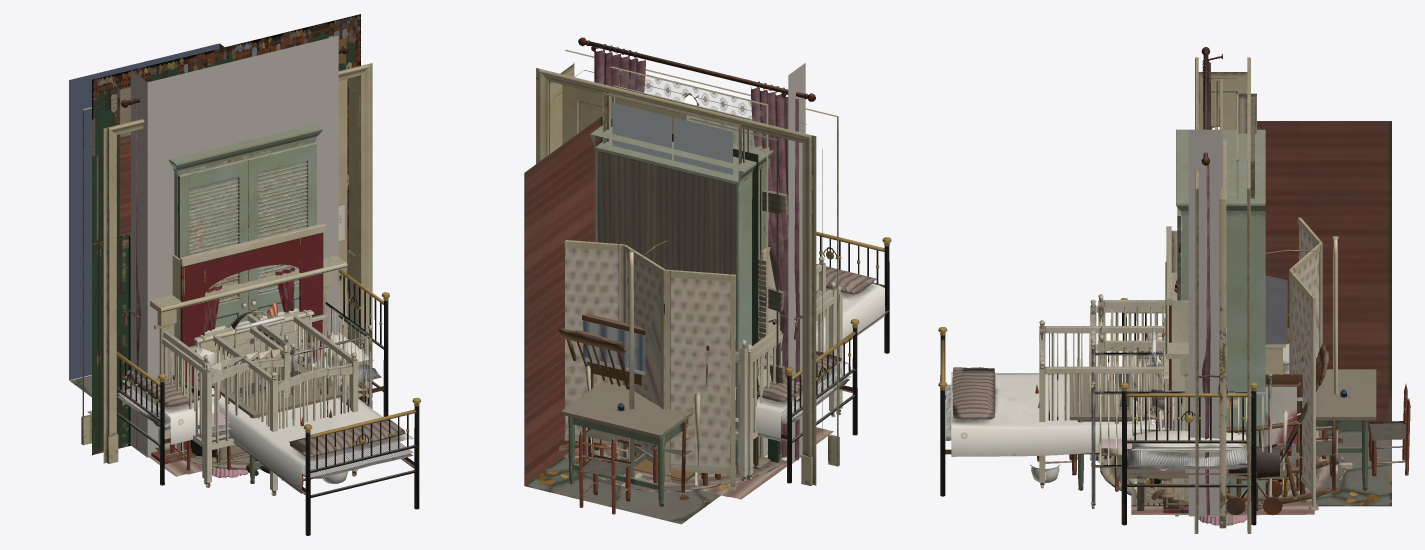
File: wood.glb
3 views of the same model, side by side, from view 1: azimuth 30°, elevation 25°; view 2: azimuth 150°, elevation 25°; view 3: azimuth 270°, elevation 25° (orthographic). The views are drawn at different scales.
Parts seen in each view (by area): view 1: Mod_fireplace_wood, Exit_wood_p0, Door_frame_wood, Solid_iron_bed, Band_puppet_theatre, Exit_wood_p1, Ward_leafR_wood, Ward_leafL_wood, Isl_bed_screen, Isl_twin_cribs_p0, Solid_crib_v0, Isl_crib_rocker (+9 smaller); view 2: Isl_bed_screen, Exit_wood_p0, Ward_body_wood, Door_frame_wood, Win_sash_curtain, Solid_nursery_table, Win_sash_glass, Solid_iron_bed, Mod_fireplace_wood, Isl_washstand, Isl_crib_rocker, Isl_twin_cribs_p0 (+9 smaller); view 3: Exit_wood_p0, Isl_bed_screen, Solid_iron_bed, Ward_body_wood, Mod_fireplace_wood, Solid_nursery_table, Door_frame_wood, Isl_dollhouse, Isl_twin_cribs_p0, Solid_crib_v0, Isl_crib_rocker, Door_leaf_wood (+9 smaller).
Boxes of the visible parts, x1=… form: Mod_fireplace_wood: x1=131, y1=36, x2=347, y2=464; Exit_wood_p0: x1=69, y1=14, x2=360, y2=454; Door_frame_wood: x1=81, y1=63, x2=372, y2=463; Solid_iron_bed: x1=212, y1=363, x2=421, y2=535; Band_puppet_theatre: x1=172, y1=223, x2=326, y2=451; Exit_wood_p1: x1=69, y1=43, x2=219, y2=380; Ward_leafR_wood: x1=247, y1=142, x2=316, y2=318; Ward_leafL_wood: x1=178, y1=158, x2=248, y2=327; Isl_bed_screen: x1=117, y1=270, x2=389, y2=485; Isl_twin_cribs_p0: x1=161, y1=302, x2=372, y2=487; Solid_crib_v0: x1=210, y1=307, x2=358, y2=495; Isl_crib_rocker: x1=163, y1=314, x2=290, y2=484; Isl_bed_screen: x1=564, y1=240, x2=859, y2=491; Exit_wood_p0: x1=524, y1=93, x2=779, y2=524; Ward_body_wood: x1=590, y1=115, x2=773, y2=474; Door_frame_wood: x1=536, y1=49, x2=839, y2=485; Win_sash_curtain: x1=578, y1=37, x2=815, y2=460; Solid_nursery_table: x1=561, y1=383, x2=703, y2=514; Win_sash_glass: x1=612, y1=102, x2=732, y2=174; Solid_iron_bed: x1=816, y1=231, x2=891, y2=353; Mod_fireplace_wood: x1=779, y1=63, x2=805, y2=463; Isl_washstand: x1=564, y1=314, x2=776, y2=496; Isl_crib_rocker: x1=582, y1=282, x2=836, y2=492; Isl_twin_cribs_p0: x1=730, y1=286, x2=842, y2=480; Exit_wood_p0: x1=1210, y1=107, x2=1391, y2=506; Isl_bed_screen: x1=1120, y1=217, x2=1322, y2=525; Solid_iron_bed: x1=938, y1=327, x2=1155, y2=496; Ward_body_wood: x1=1176, y1=129, x2=1265, y2=497; Mod_fireplace_wood: x1=1163, y1=129, x2=1222, y2=516; Solid_nursery_table: x1=1035, y1=369, x2=1410, y2=491; Door_frame_wood: x1=1194, y1=57, x2=1251, y2=533; Isl_dollhouse: x1=1131, y1=275, x2=1314, y2=515; Isl_twin_cribs_p0: x1=1090, y1=299, x2=1272, y2=508; Solid_crib_v0: x1=1039, y1=320, x2=1168, y2=488; Isl_crib_rocker: x1=1098, y1=294, x2=1345, y2=507; Door_leaf_wood: x1=1217, y1=139, x2=1228, y2=528.
Size of the model in its own units: 2.25 by 3.35 by 3.32.
Materials: 43 (39 with a texture image).
